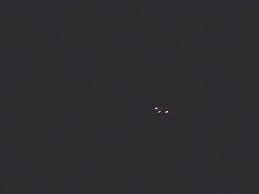Plane: (144, 102, 175, 119)
